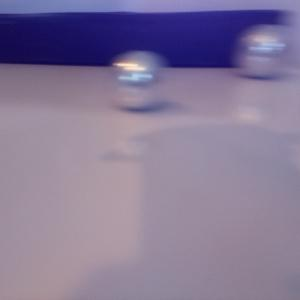zone: (1, 9, 279, 68)
